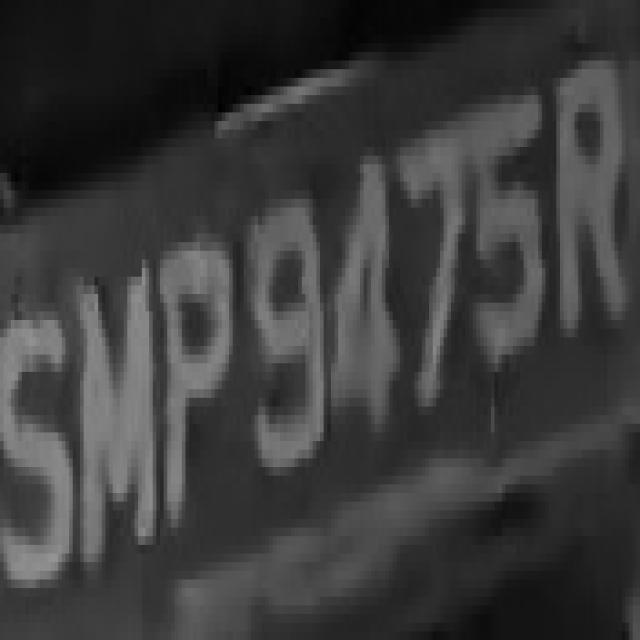4: (313, 130, 407, 502)
5: (454, 86, 546, 398)
7: (389, 96, 469, 458)
9: (232, 182, 334, 510)
M: (80, 251, 160, 579)
P: (142, 234, 240, 554)
R: (549, 34, 636, 380)
S: (4, 294, 76, 588)
